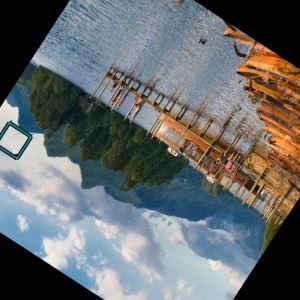square: (1, 120, 34, 161)
